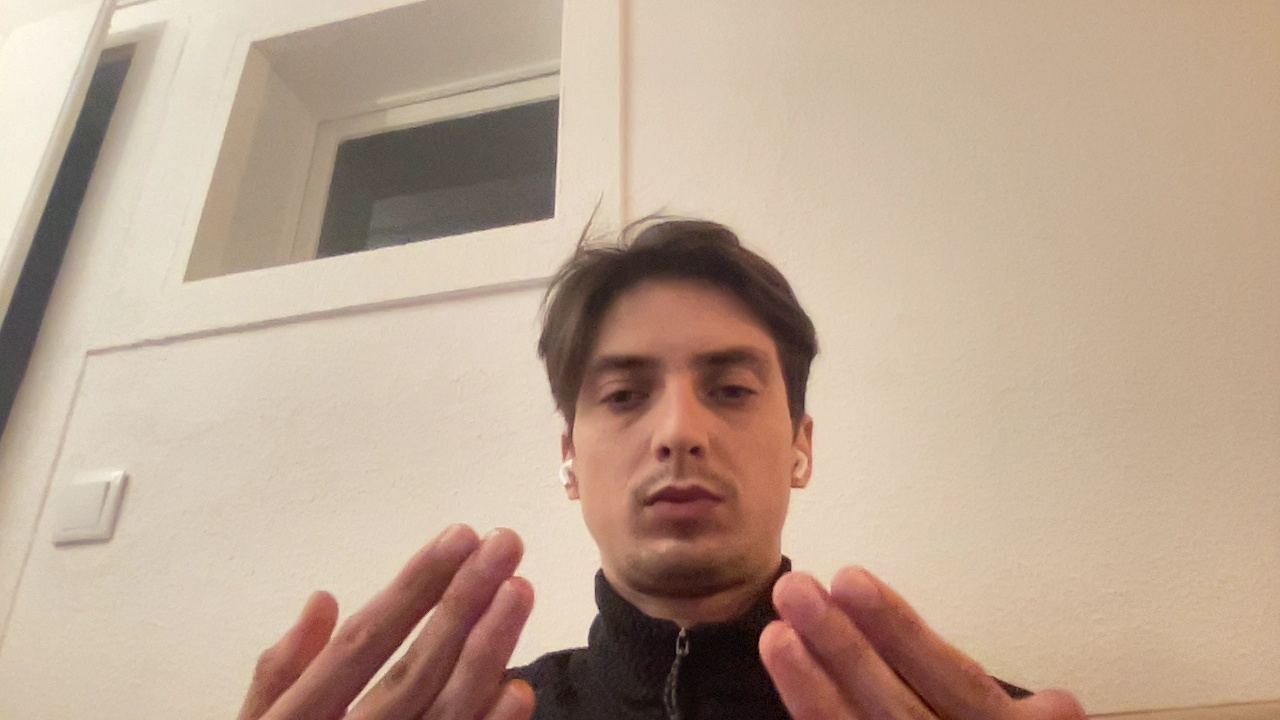Thank you: (687, 494, 1114, 720), (186, 496, 567, 720)
